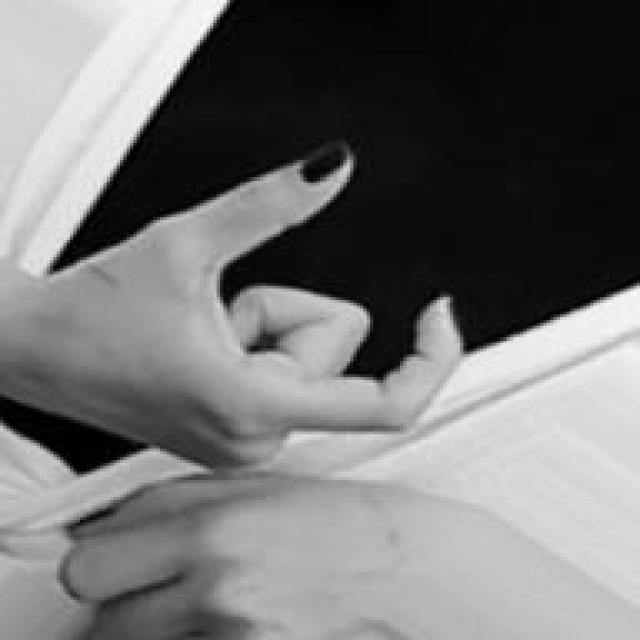U: (29, 143, 470, 471)
